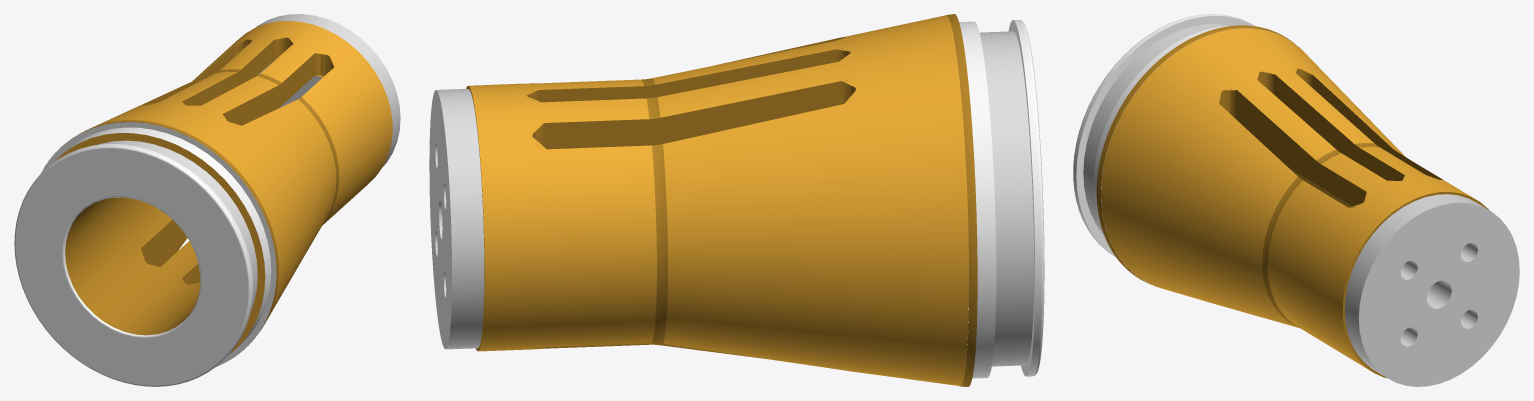
Rendered from 10.7_truba-kontakta-tk-3150.glb.
The picture shows the model from 3 angles, left to right: view 1: azimuth 30°, elevation 25°; view 2: azimuth 150°, elevation 25°; view 3: azimuth 270°, elevation 25°; orthographic projection. The views are drawn at different scales.
Parts seen in each view (by area): view 1: 10.7_truba-kontakta-tk-3150; view 2: 10.7_truba-kontakta-tk-3150; view 3: 10.7_truba-kontakta-tk-3150.
Boxes of the visible parts, x1,y1,x2,y2 form: 10.7_truba-kontakta-tk-3150: [14, 14, 400, 386]; 10.7_truba-kontakta-tk-3150: [429, 14, 1044, 386]; 10.7_truba-kontakta-tk-3150: [1073, 14, 1519, 386].
Size of the model in its own units: 203 by 115 by 182.
